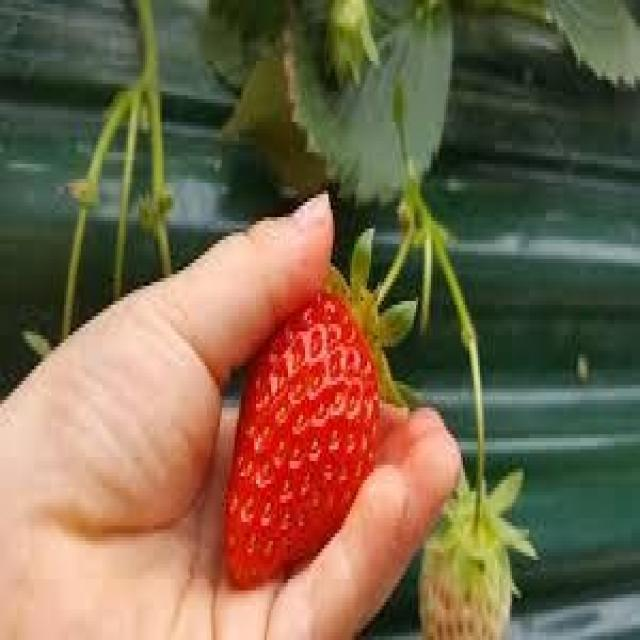ripe: (224, 290, 378, 589)
unripe: (422, 516, 510, 640)
